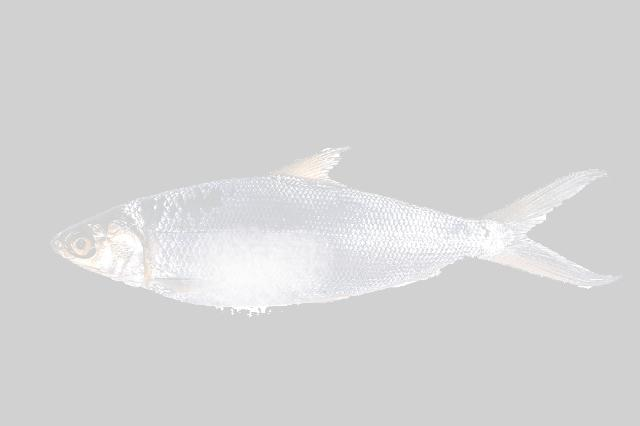Fungal Disease -Saprolegniasis-: (51, 148, 617, 311), (51, 148, 617, 311)
